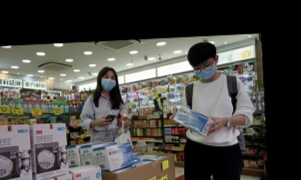with_mask: (192, 59, 218, 80), (99, 74, 117, 92)
